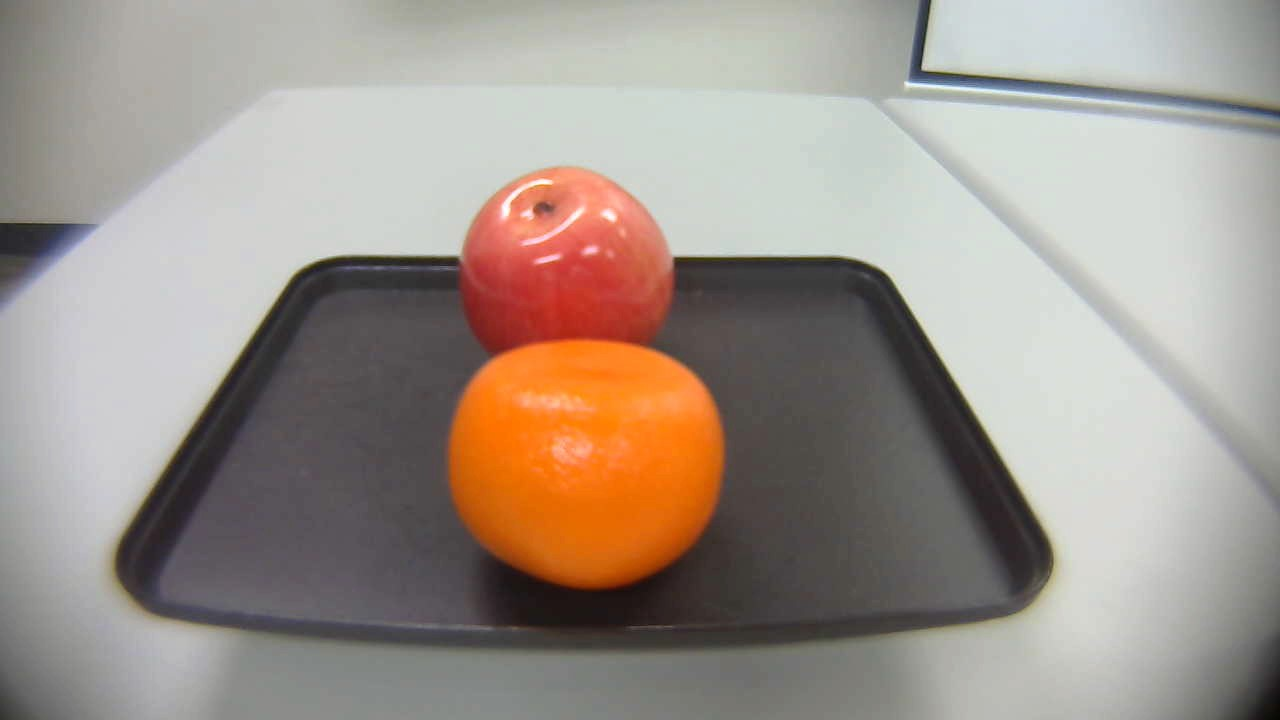orange: (447, 335, 723, 600)
red apple: (447, 155, 683, 374)
